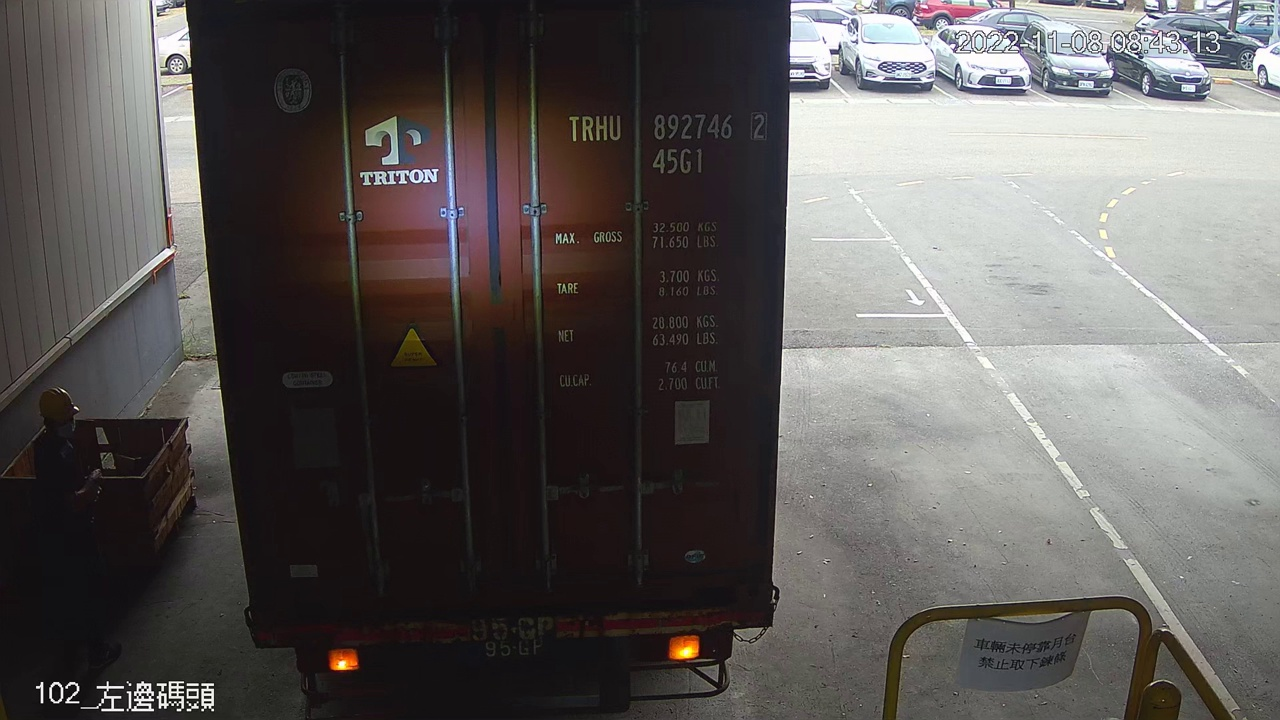container: (557, 105, 777, 181)
